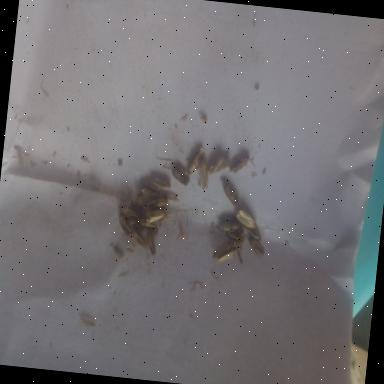pbw: (217, 217, 247, 244), (210, 241, 236, 265), (234, 209, 261, 231), (186, 146, 205, 177), (207, 152, 230, 176), (220, 180, 240, 207), (197, 156, 211, 190), (170, 164, 191, 186), (144, 206, 167, 226), (247, 234, 266, 258), (228, 154, 250, 174), (144, 231, 160, 258), (145, 195, 170, 212), (114, 212, 132, 235), (118, 202, 142, 219), (135, 217, 159, 234), (130, 230, 150, 250), (135, 192, 148, 218), (158, 190, 182, 204), (149, 176, 172, 190), (127, 217, 146, 233), (141, 183, 161, 198)
